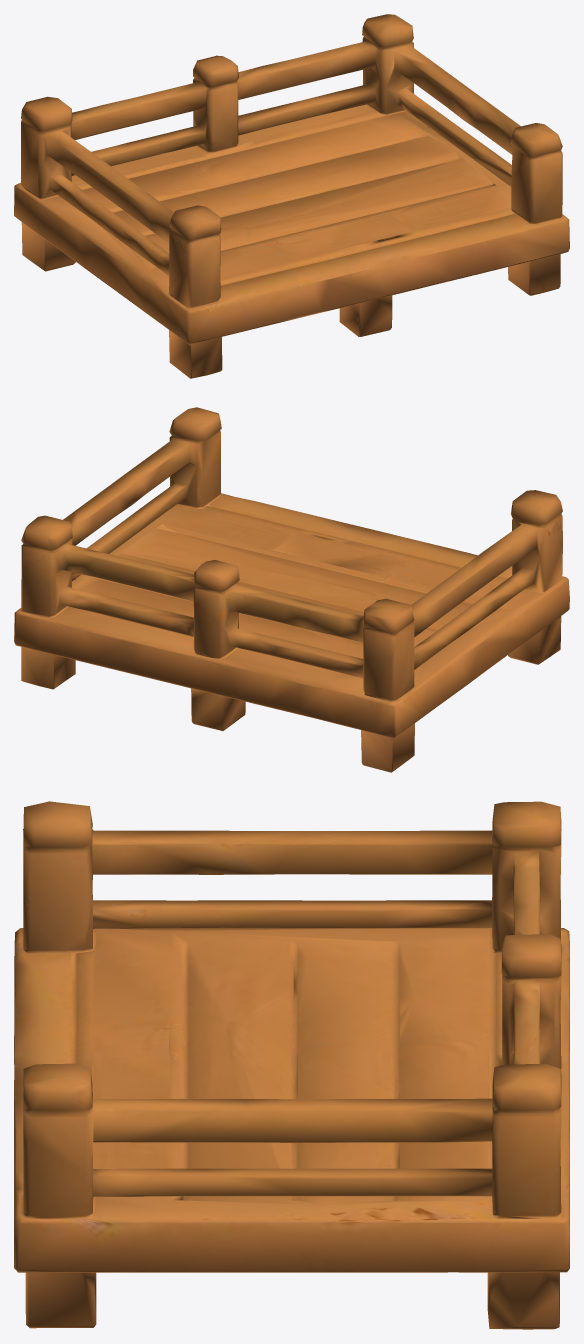
Rendered from deck.glb.
3 renders of one model, top to bottom at view 1: azimuth 30°, elevation 25°; view 2: azimuth 150°, elevation 25°; view 3: azimuth 270°, elevation 25°, orthographic. The views are drawn at different scales.
Parts seen in each view (by area): view 1: model; view 2: model; view 3: model.
Boxes of the visible parts, x1,y1,x2,y2 form: model: (14, 14, 569, 378); model: (14, 407, 569, 772); model: (14, 801, 569, 1329).
Size of the model in its own units: 1.89 by 0.7294 by 1.5.
Materials: 1 (1 with a texture image).
